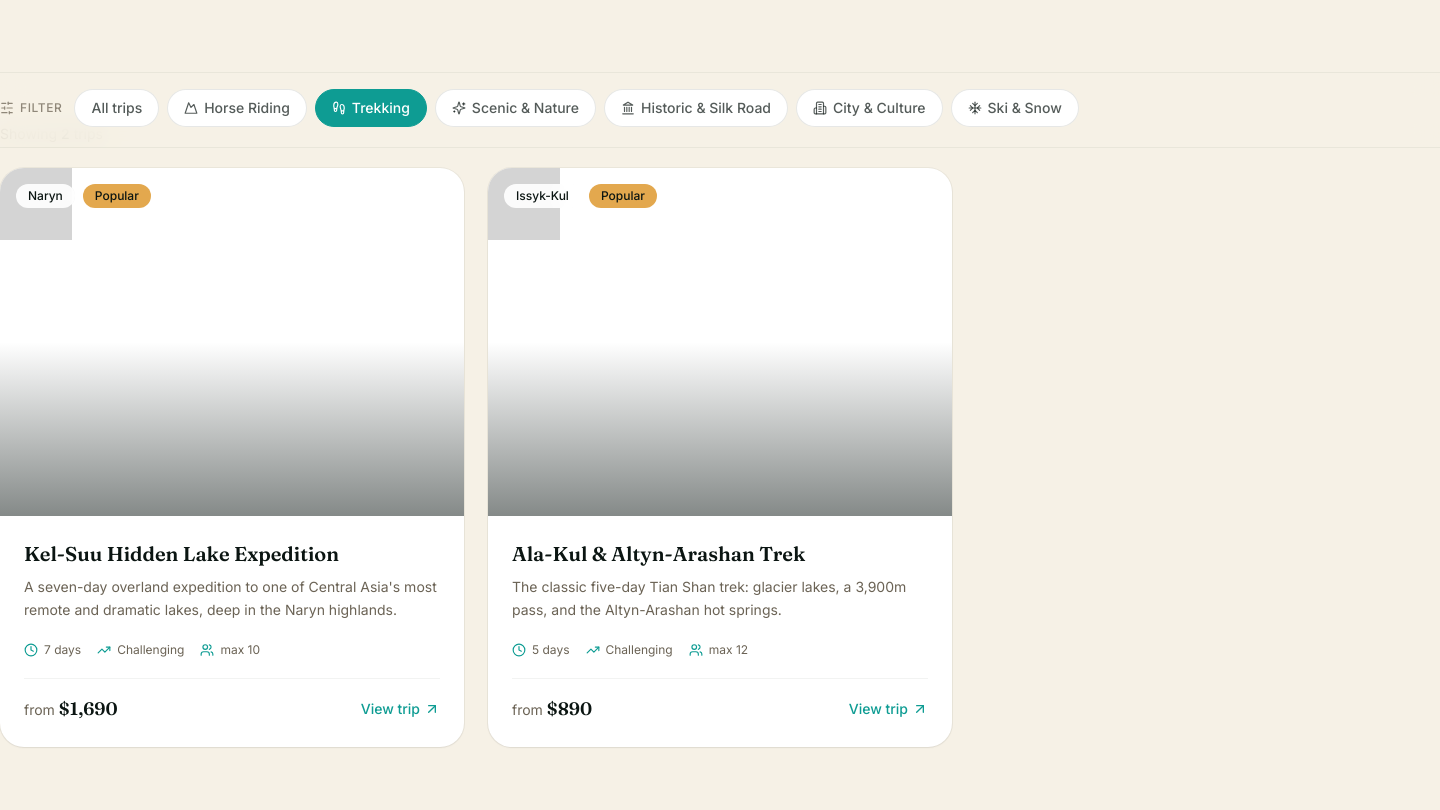
Scenario: TripsExplorer › returns to all trips
The width and height of the screenshot is (1440, 810).
Click the button "All trips" at (117, 108), box x1=74 y1=89 x2=159 y2=127
(page scrolled)
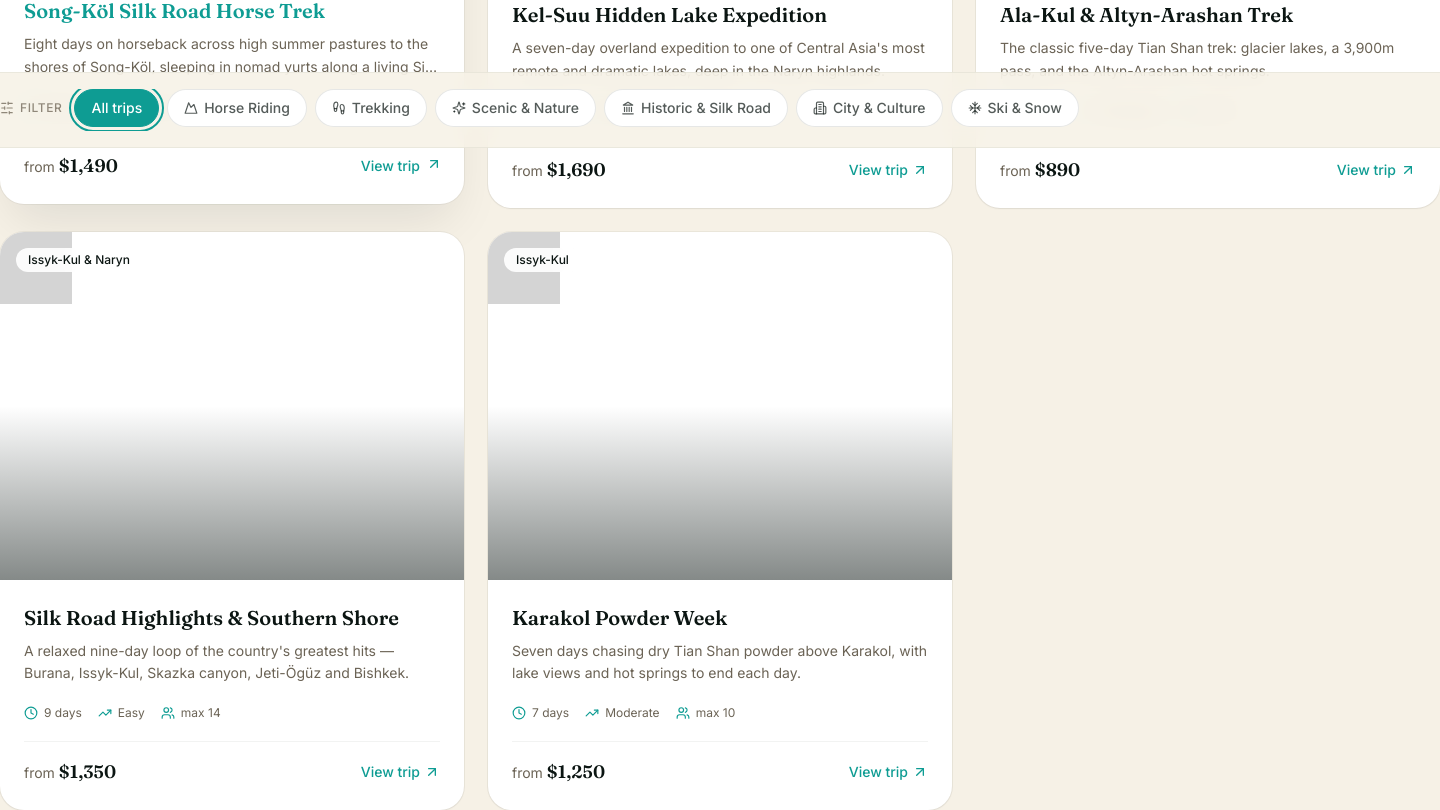
Expected: the heading "Kel-Suu Hidden Lake Expedition" is shown, x1=512 y1=2 x2=827 y2=27
Now the heading "Silk Road Highlights & Southern Shore" is shown, box x1=24 y1=604 x2=440 y2=632
Now the heading "Karakol Powder Week" is shown, box x1=512 y1=604 x2=727 y2=630
